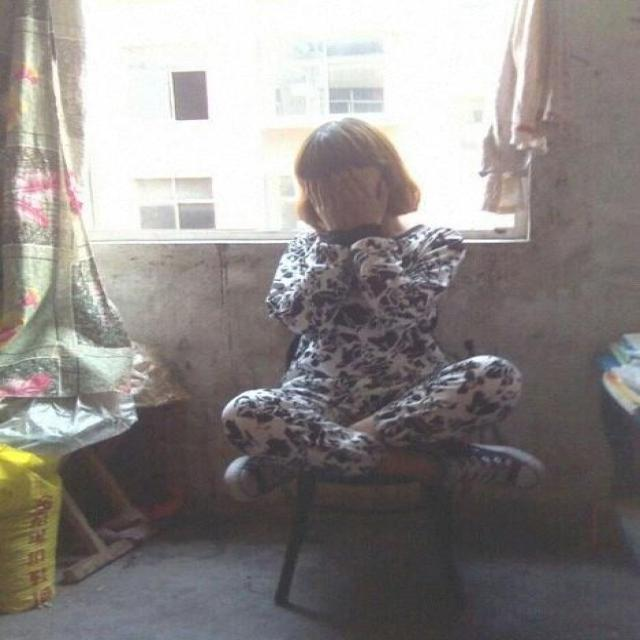long sleeve top: (265, 224, 469, 384)
trousers: (222, 355, 525, 480)
